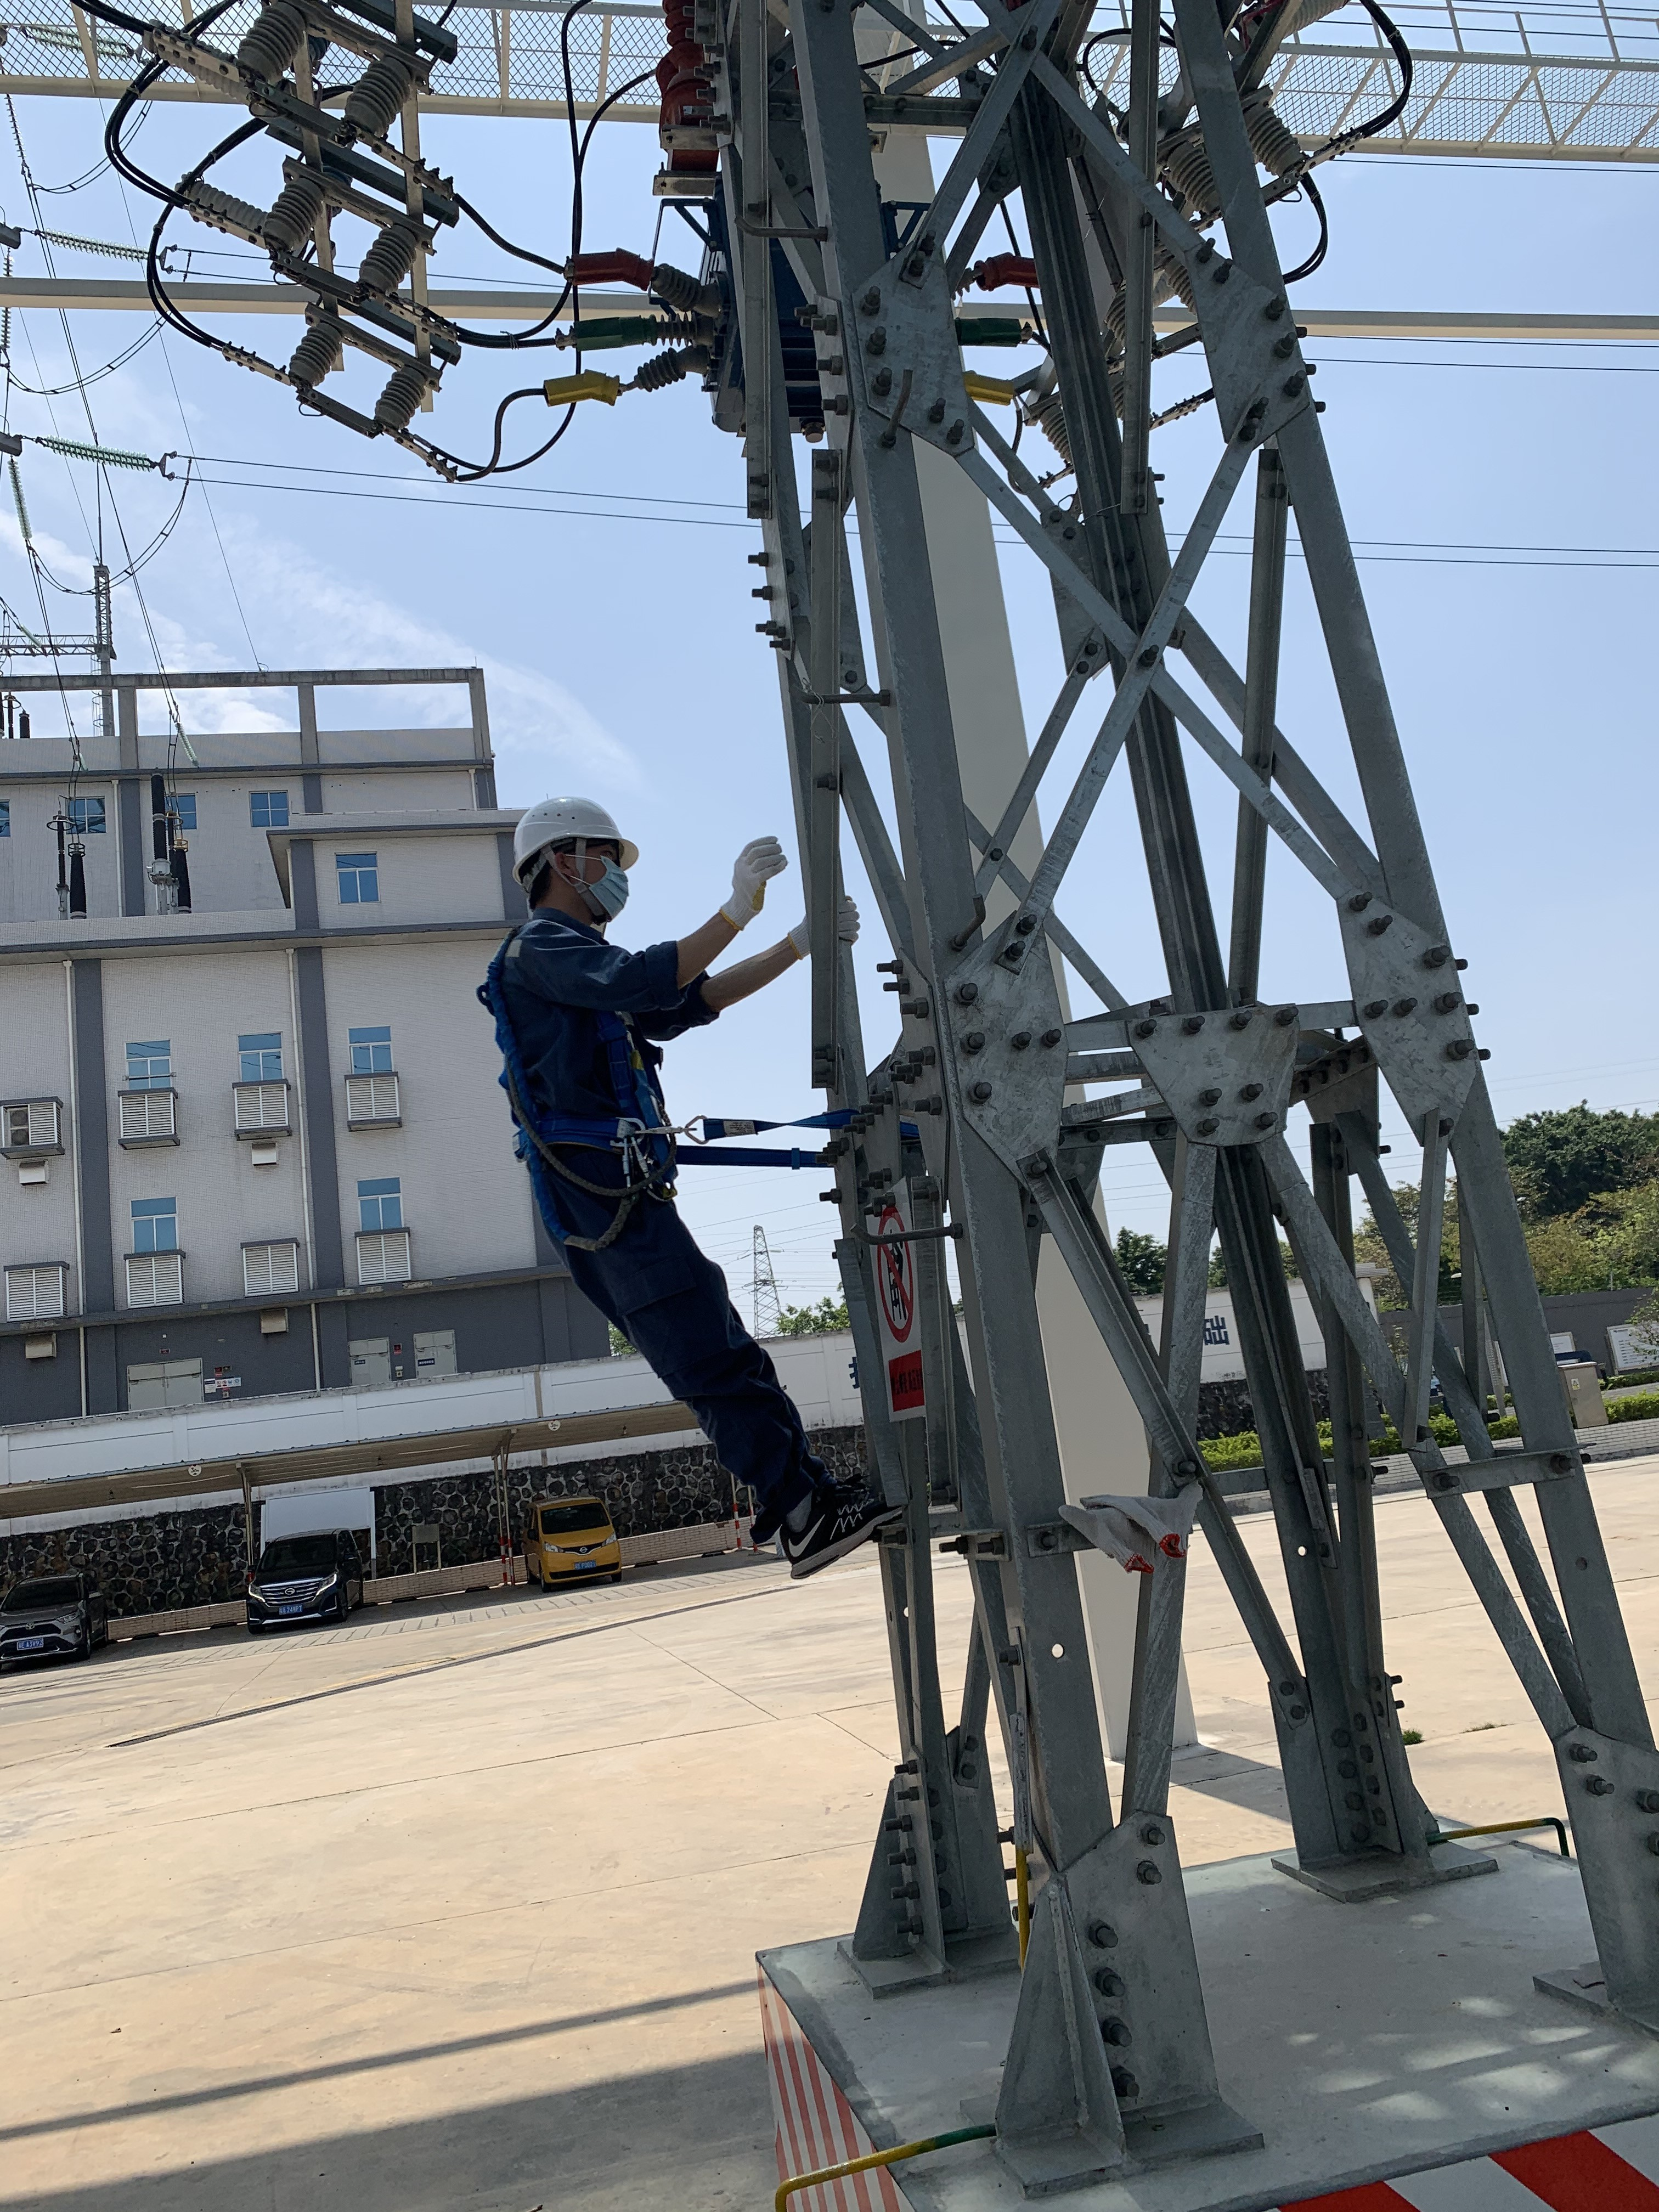downsuit: (533, 1162, 828, 1522)
upsuit: (477, 914, 723, 1195)
